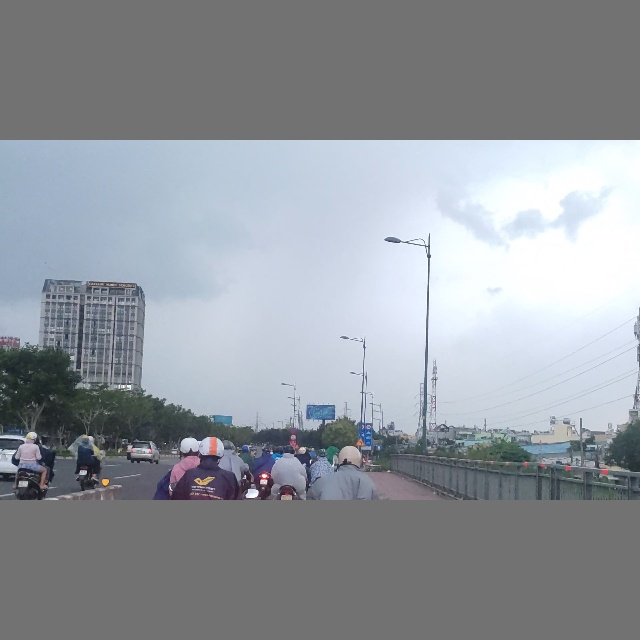P.127*50: (365, 424, 372, 429)
W.201a: (355, 437, 365, 446)
